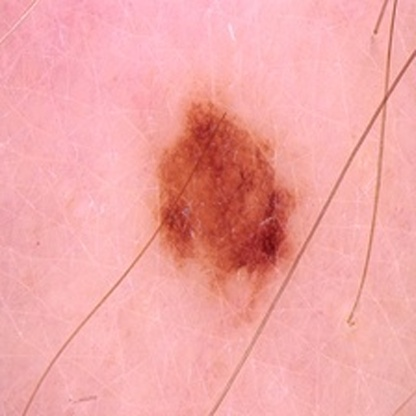benign: (164, 115, 291, 267)
